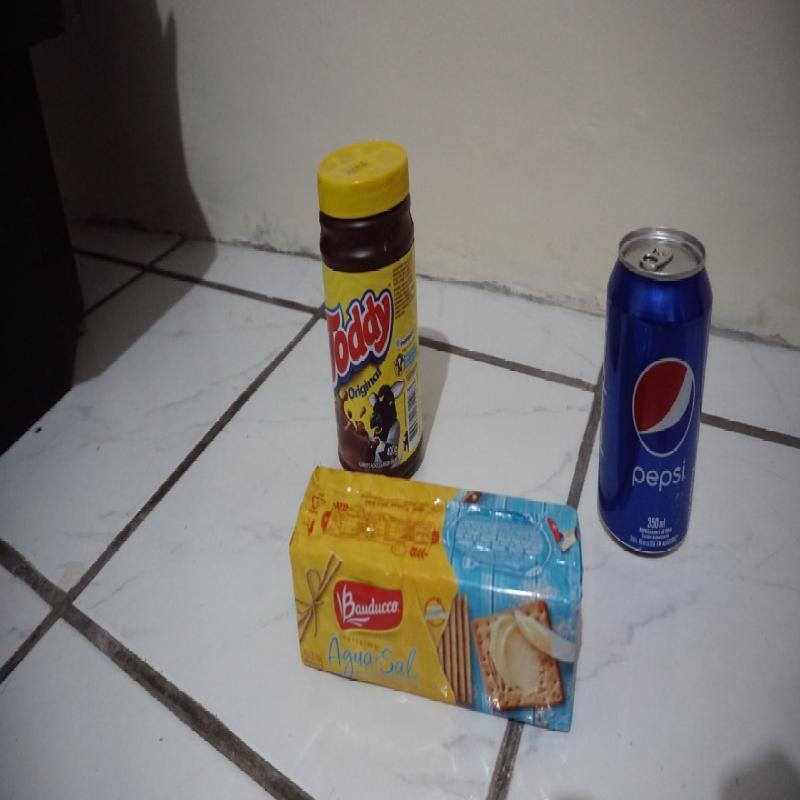Chocolate Powder: (316, 136, 426, 494)
Cracker: (284, 461, 584, 736)
Soda can: (595, 223, 715, 561)
